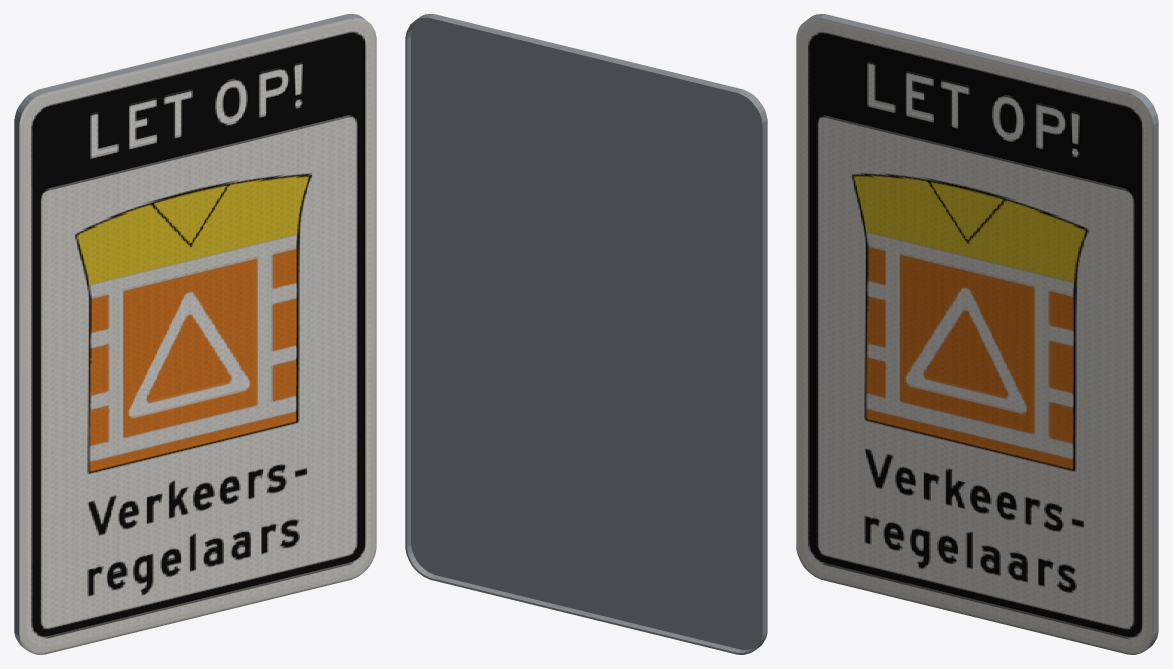
The picture shows the model from 3 angles, left to right: view 1: azimuth 30°, elevation 25°; view 2: azimuth 150°, elevation 25°; view 3: azimuth 330°, elevation 25°; orthographic projection.
Parts seen in each view (by area): view 1: cat_5e1dd4bbdd1f7504; view 2: cat_5e1dd4bbdd1f7504; view 3: cat_5e1dd4bbdd1f7504.
Part boxes in pixels (x1,y1,x2,y2): cat_5e1dd4bbdd1f7504: (14, 14, 376, 654); cat_5e1dd4bbdd1f7504: (405, 14, 767, 654); cat_5e1dd4bbdd1f7504: (796, 14, 1158, 654).
Size of the model in its own units: 0.6 by 0.015 by 0.9011.
Materials: 2 (1 with a texture image).
